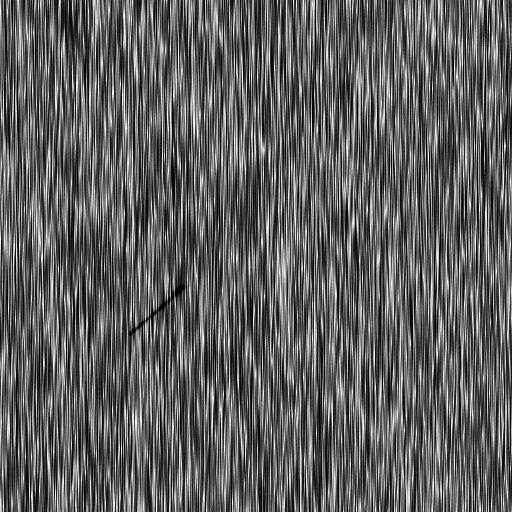DefectTypeC: (129, 281, 186, 337)
